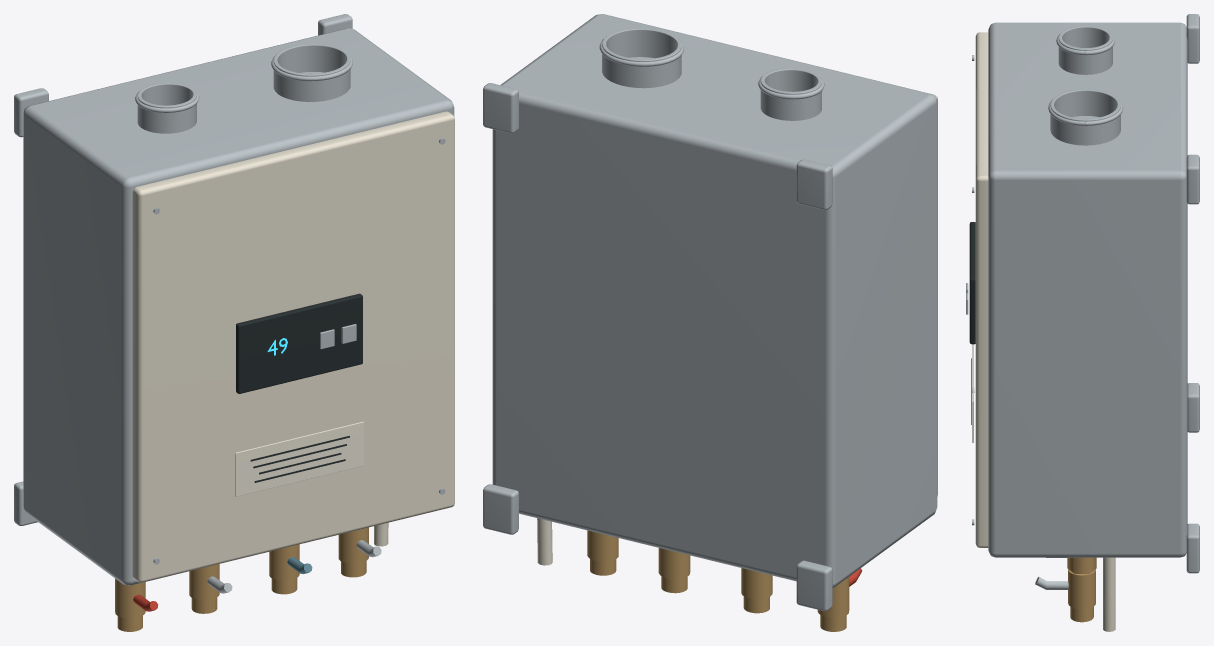
Rendered from utility-tankless-water-heater.glb.
The picture shows the model from 3 angles, left to right: view 1: azimuth 30°, elevation 25°; view 2: azimuth 150°, elevation 25°; view 3: azimuth 270°, elevation 25°; orthographic projection. The views are drawn at different scales.
Visible parts, largest first — view 1: catalog_surface_RealismUV, catalog_surface_UVMap; view 2: catalog_surface_RealismUV; view 3: catalog_surface_RealismUV, catalog_surface_UVMap.
Part boxes in pixels (left/top/right/bottom): catalog_surface_RealismUV: left=14, top=14, right=454, bottom=631; catalog_surface_UVMap: left=133, top=293, right=362, bottom=611; catalog_surface_RealismUV: left=483, top=14, right=937, bottom=631; catalog_surface_RealismUV: left=966, top=14, right=1199, bottom=631; catalog_surface_UVMap: left=969, top=222, right=975, bottom=424.
Bounding box in the file's own units: 0.47 × 0.7 × 0.3.
